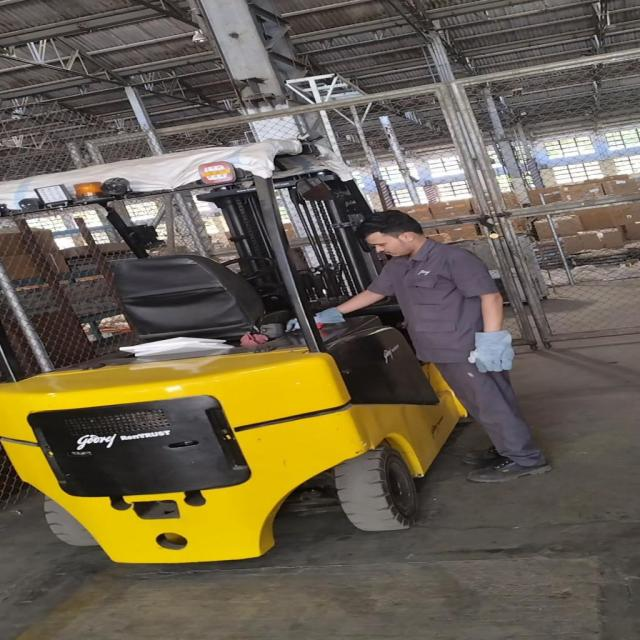Gloves-Detection: (465, 330, 516, 374), (301, 307, 346, 332)
